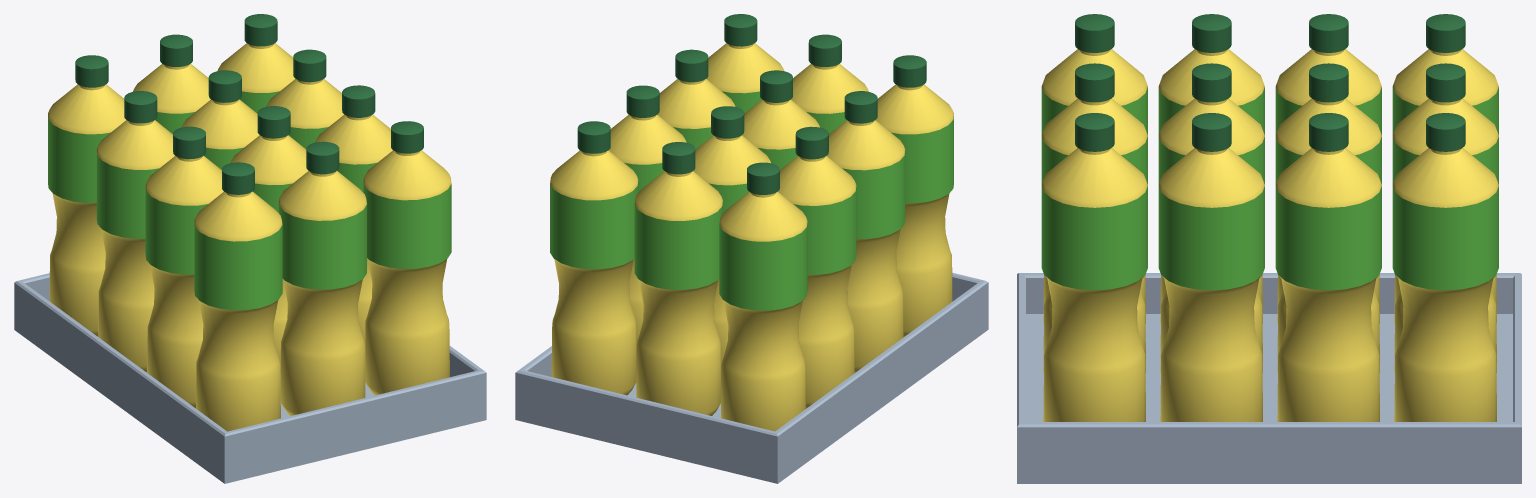
Rendered from CaseOil.fbx.
3 renders of one model, left to right at view 1: azimuth 30°, elevation 25°; view 2: azimuth 150°, elevation 25°; view 3: azimuth 270°, elevation 25°, orthographic. The views are drawn at different scales.
Parts seen in each view (by area): view 1: Cylinder, Cube; view 2: Cylinder, Cube; view 3: Cylinder, Cube.
Part boxes in pixels (left/top/right/bottom): Cylinder: left=48, top=14, right=451, bottom=431; Cube: left=14, top=273, right=486, bottom=483; Cylinder: left=550, top=14, right=953, bottom=431; Cube: left=515, top=272, right=988, bottom=483; Cylinder: left=1041, top=14, right=1498, bottom=421; Cube: left=1017, top=273, right=1521, bottom=483.
Size of the model in its own units: 1345 by 1381 by 1871.
